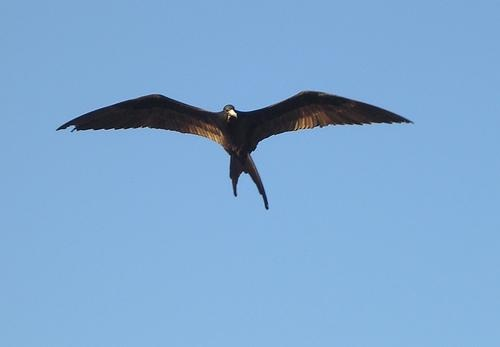bird: (53, 88, 415, 209)
